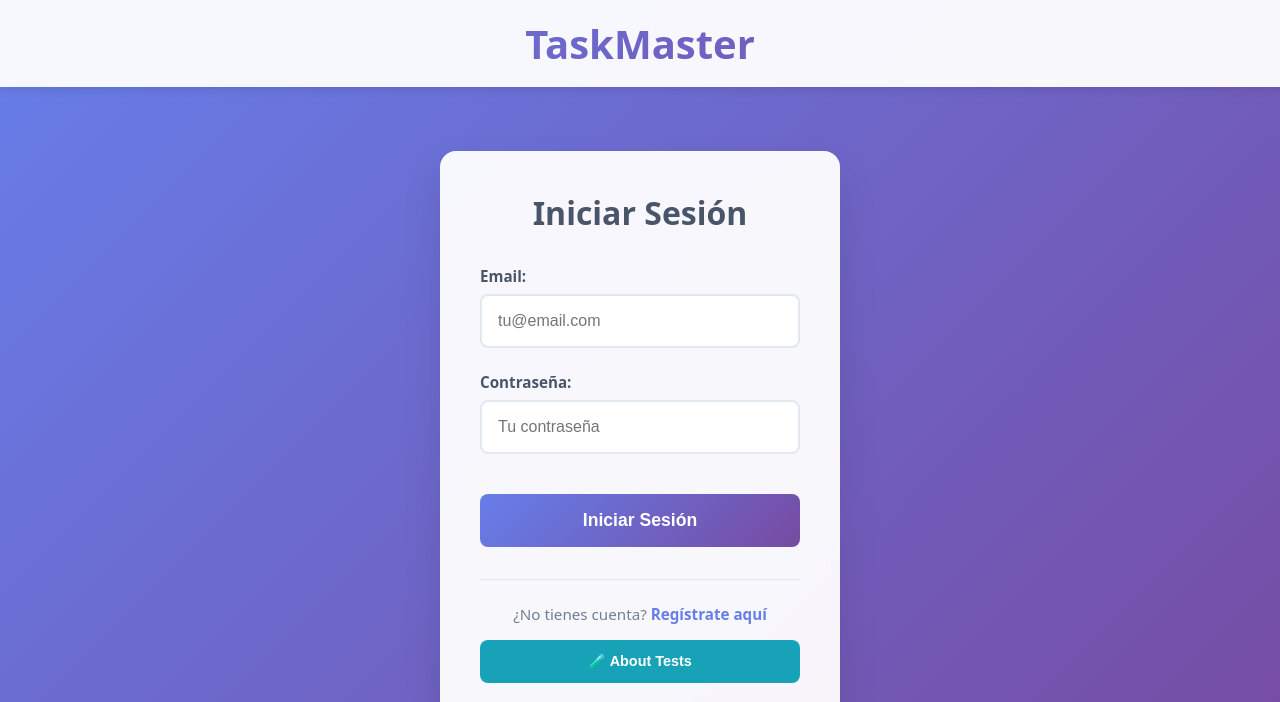
Scenario: Autenticación de Usuarios › Inicio de Sesión › debería mostrar error con credenciales inválidas
This screenshot has width=1280, height=702.
Note: Llenar formulario con contraseña incorrecta
Type "test@taskmaster.com" into the field with test id "email-input" at [640, 321], box [480,294,800,348]
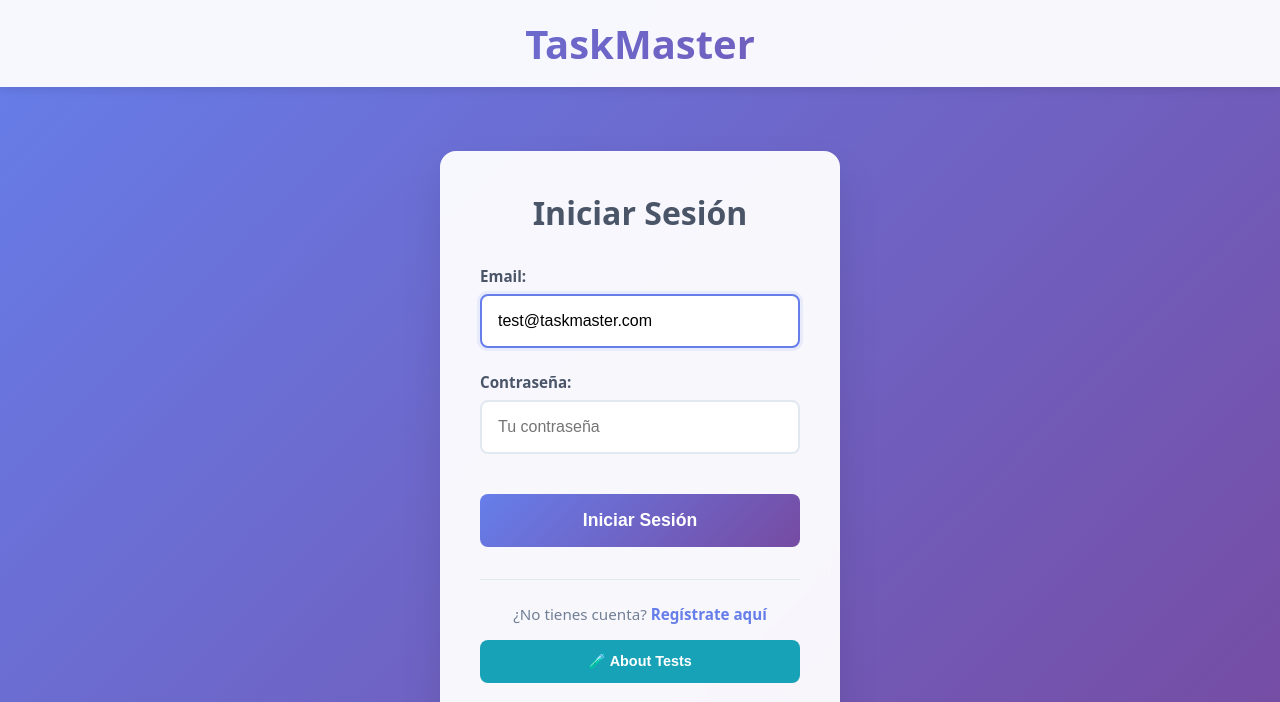
Type "wrongpassword" into the password field with test id "password-input" at [640, 427], box [480,400,800,454]
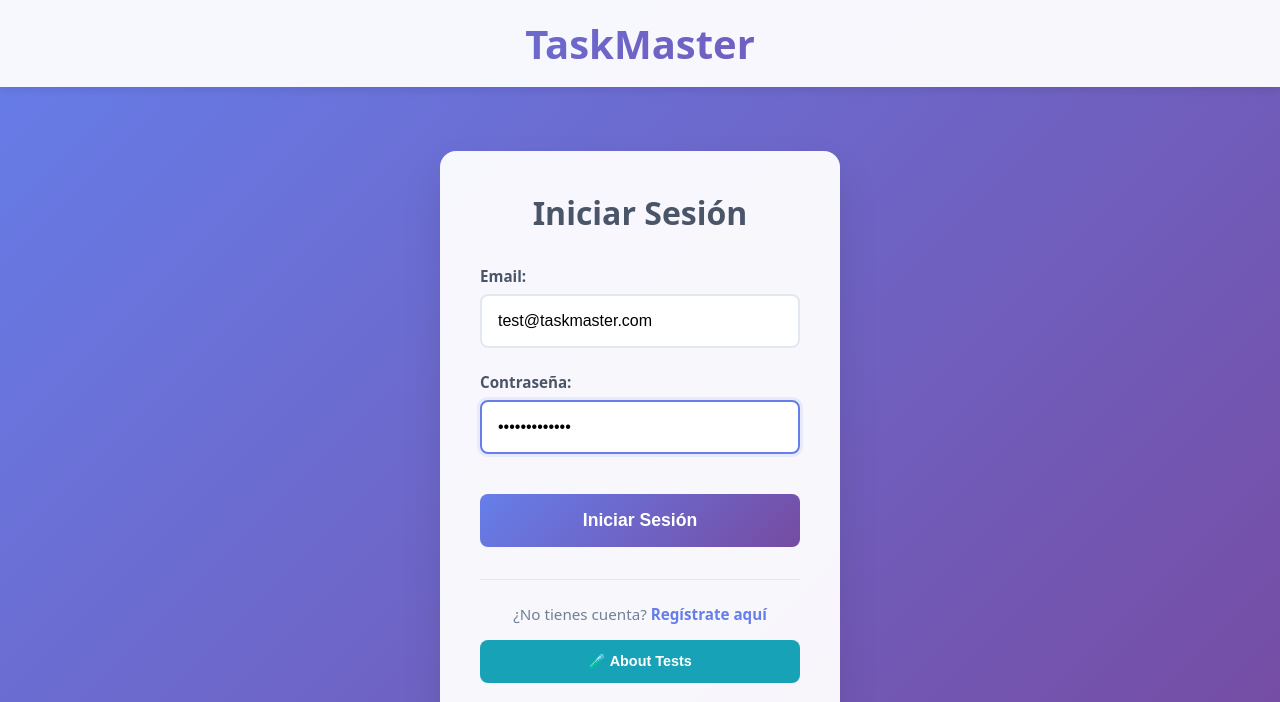
Note: Enviar formulario
Click the button with test id "login-button" at [640, 521], box [480,494,800,547]
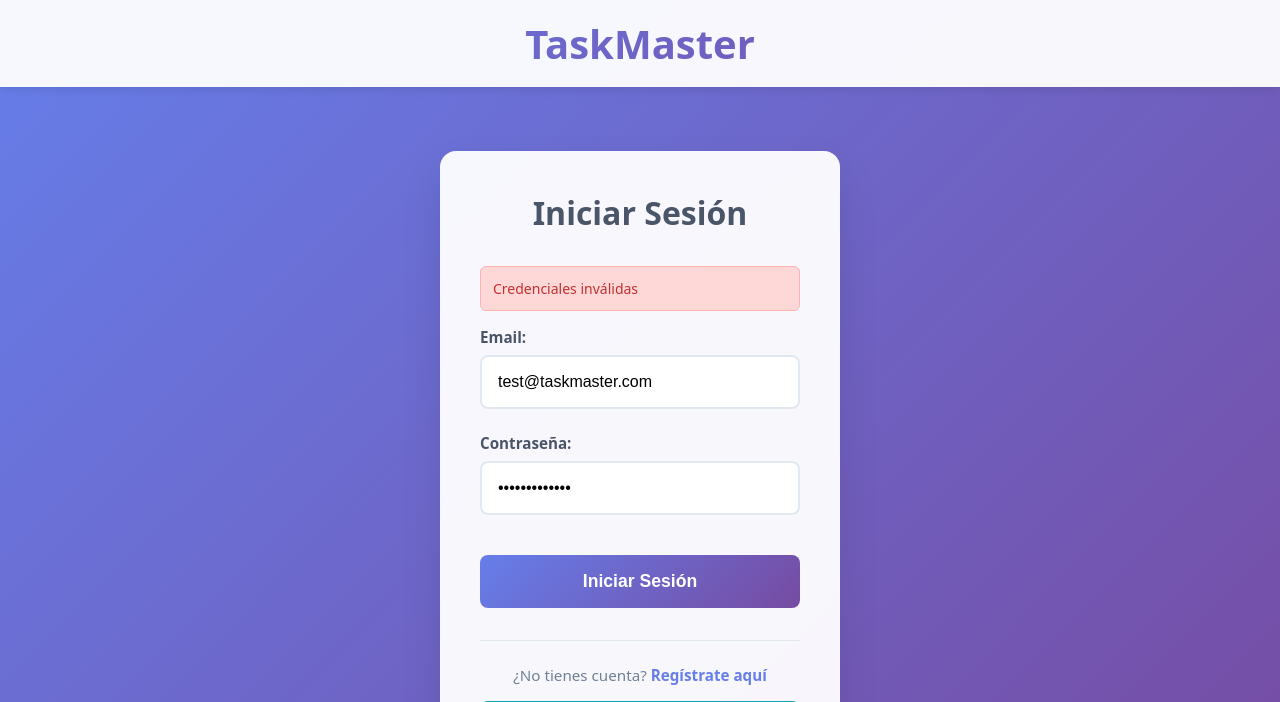
Expected: the text with test id "login-error" reads "Credenciales inválidas", [480,266,800,311]
